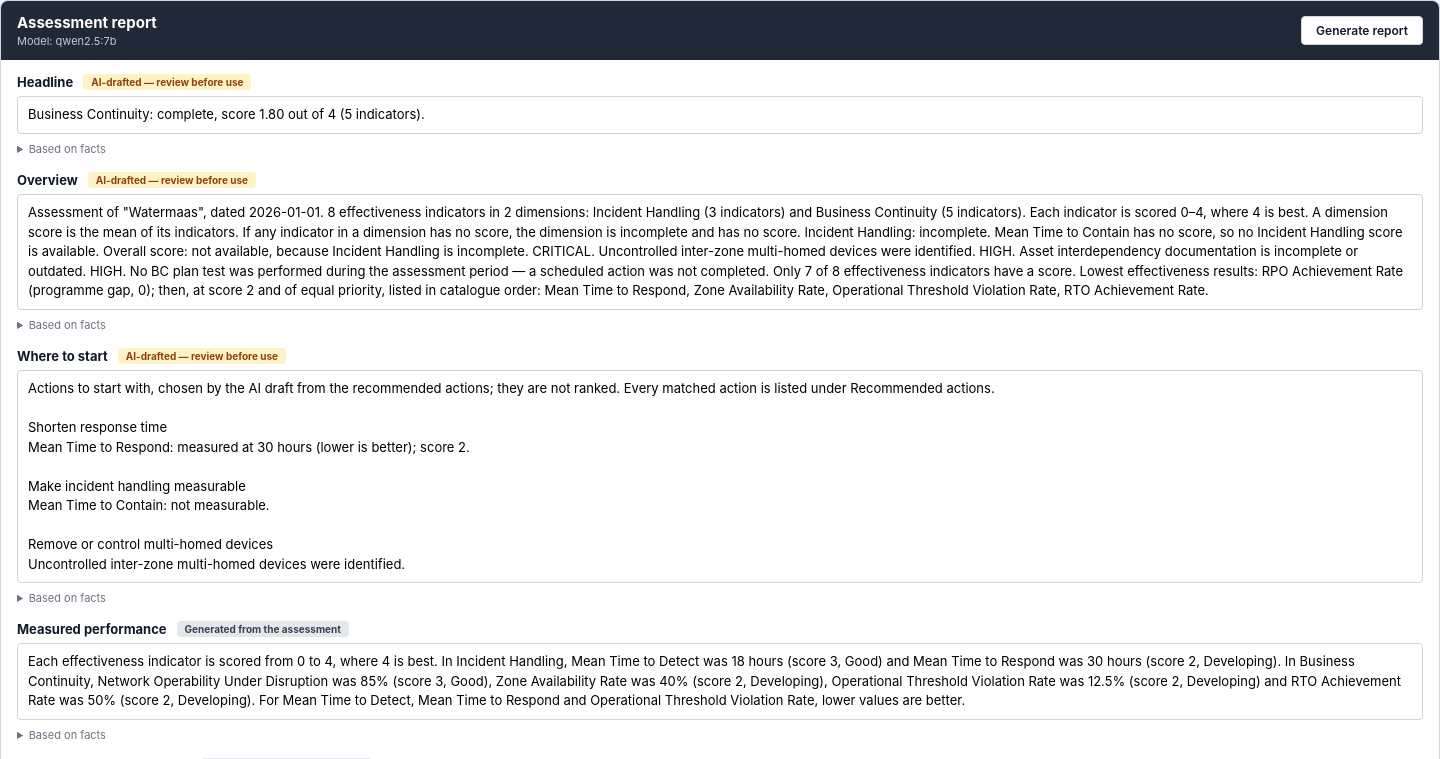
Test: Where to start (Step 9) › editable: an edit makes its label "Edited"
Replace the text in the text box named "Where to start" with "My own start." at {"x": 720, "y": 476}, box [17,370,1423,583]
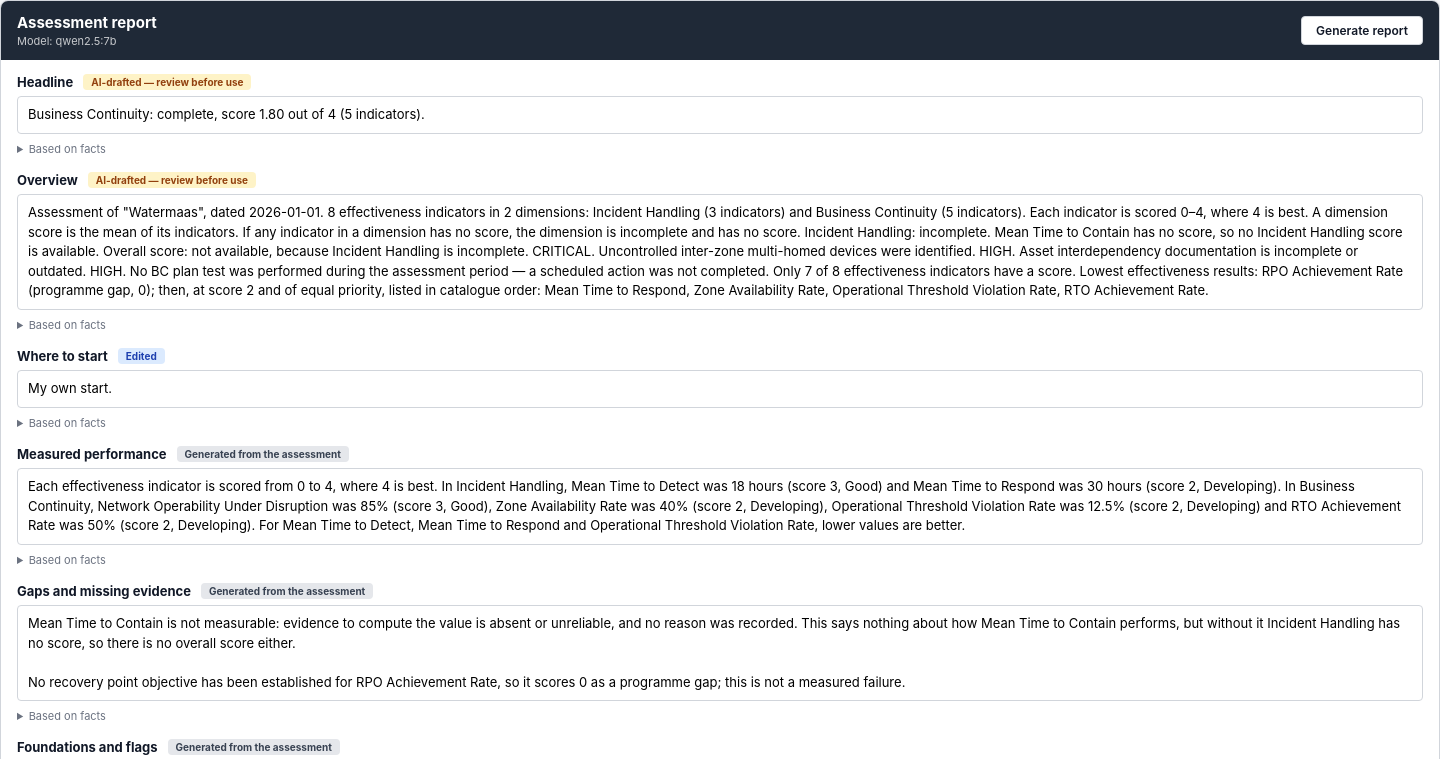
Now the text with test id "narrative-label" reads "Edited", box [126,350,157,362]
